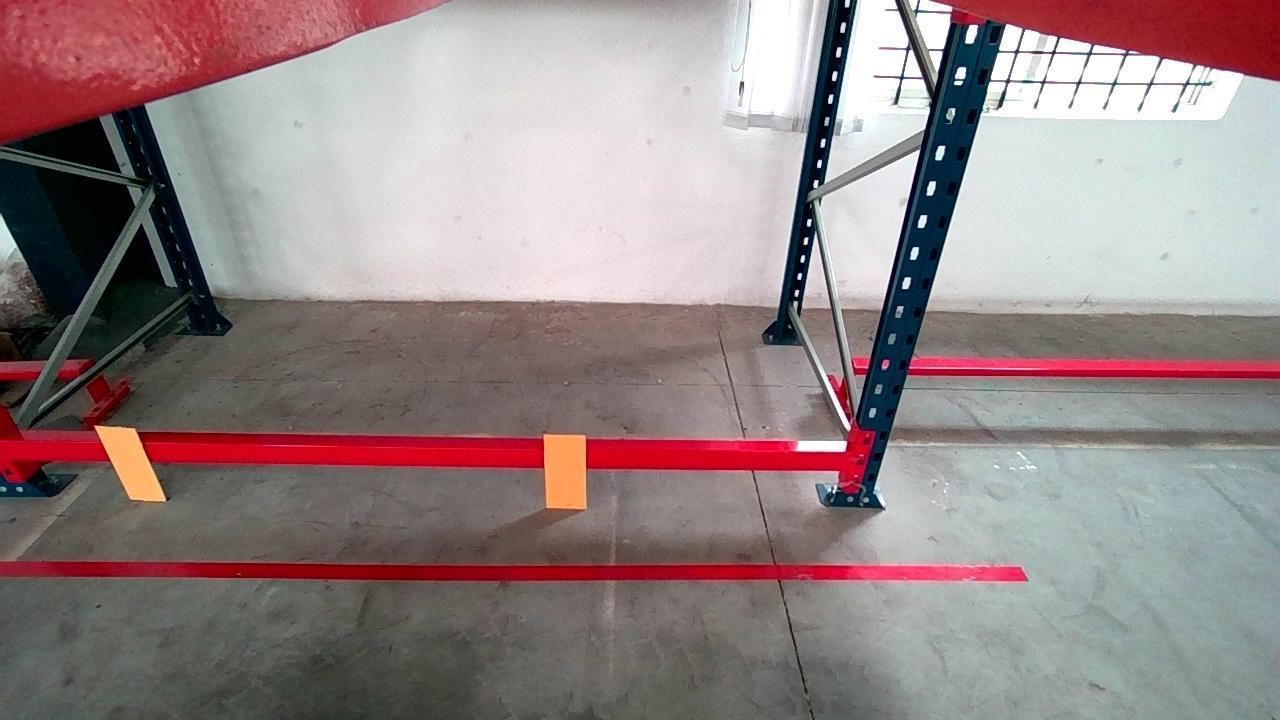h_rack: (2, 441, 862, 469)
orange_strip: (94, 425, 168, 500), (542, 433, 586, 509)
red_line: (0, 558, 1030, 580)
